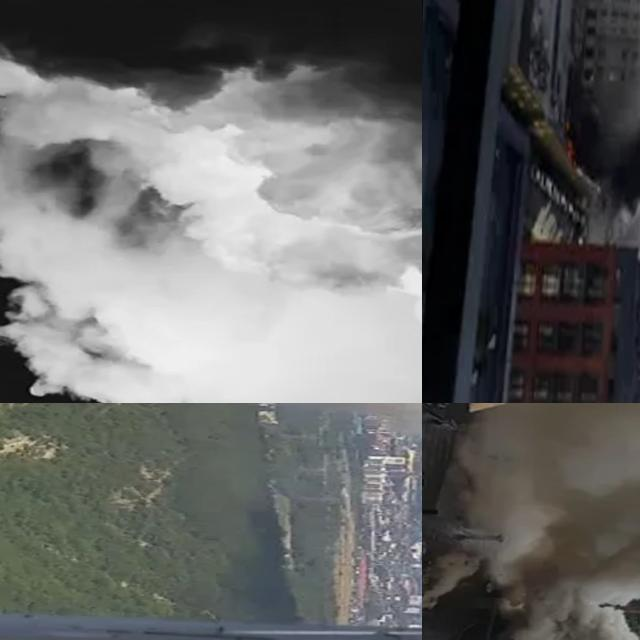smoke: (0, 55, 422, 403), (461, 403, 640, 640), (238, 403, 422, 537)
